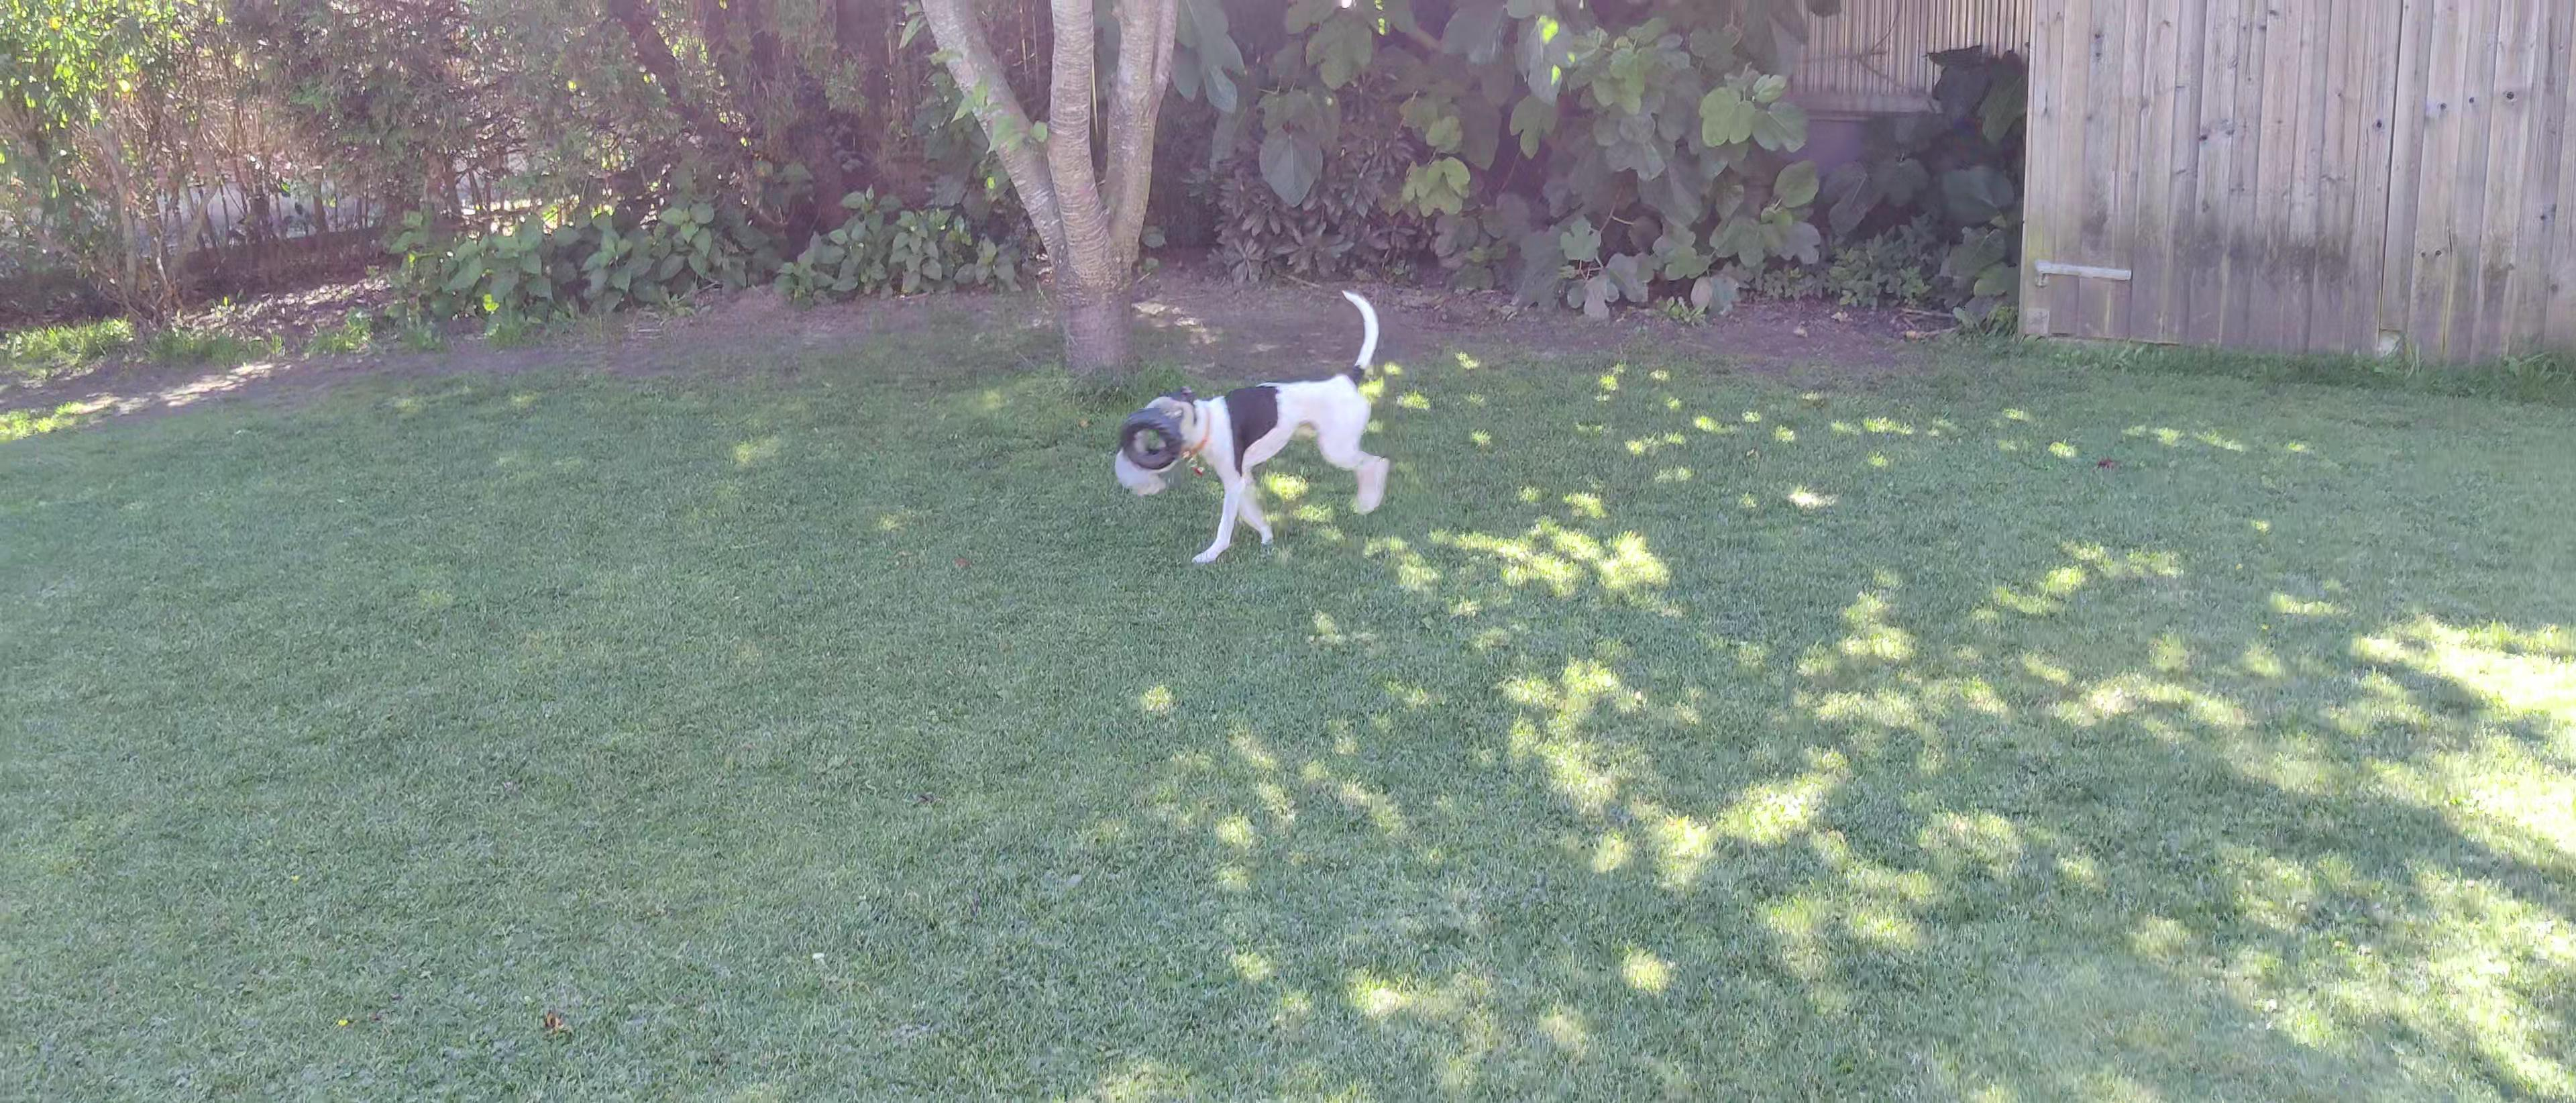Dog: (1112, 288, 1398, 570)
